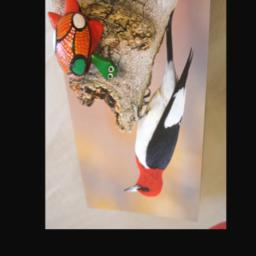Woodpecker: (124, 8, 194, 200)
